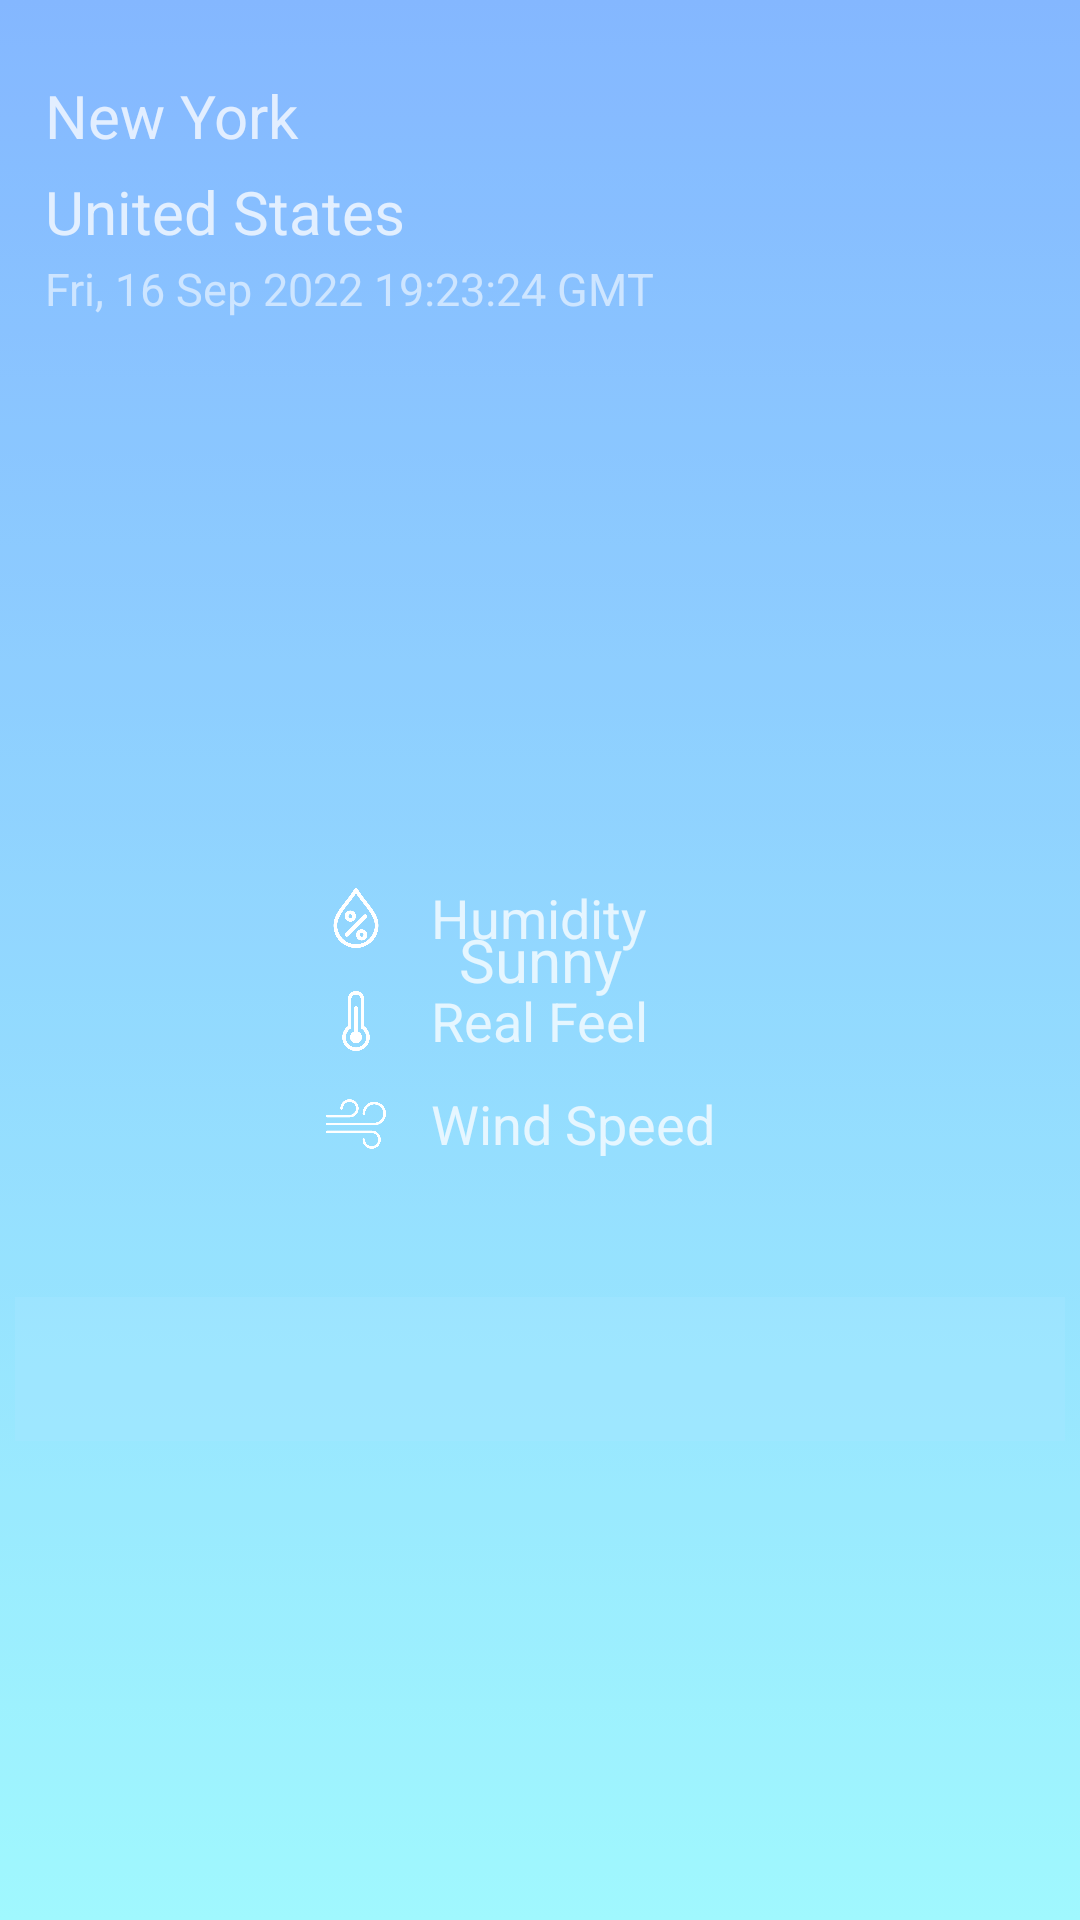

Icons on this 1080 × 1920 Android screen, each with the point to tap as (x,y):
temperature: (356,1021)
